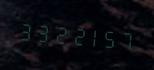five: (102, 22, 118, 53)
one: (85, 20, 101, 52)
seven: (119, 23, 135, 55)
three: (17, 14, 33, 46), (34, 16, 50, 47)
two: (51, 17, 67, 49), (68, 19, 84, 50)
